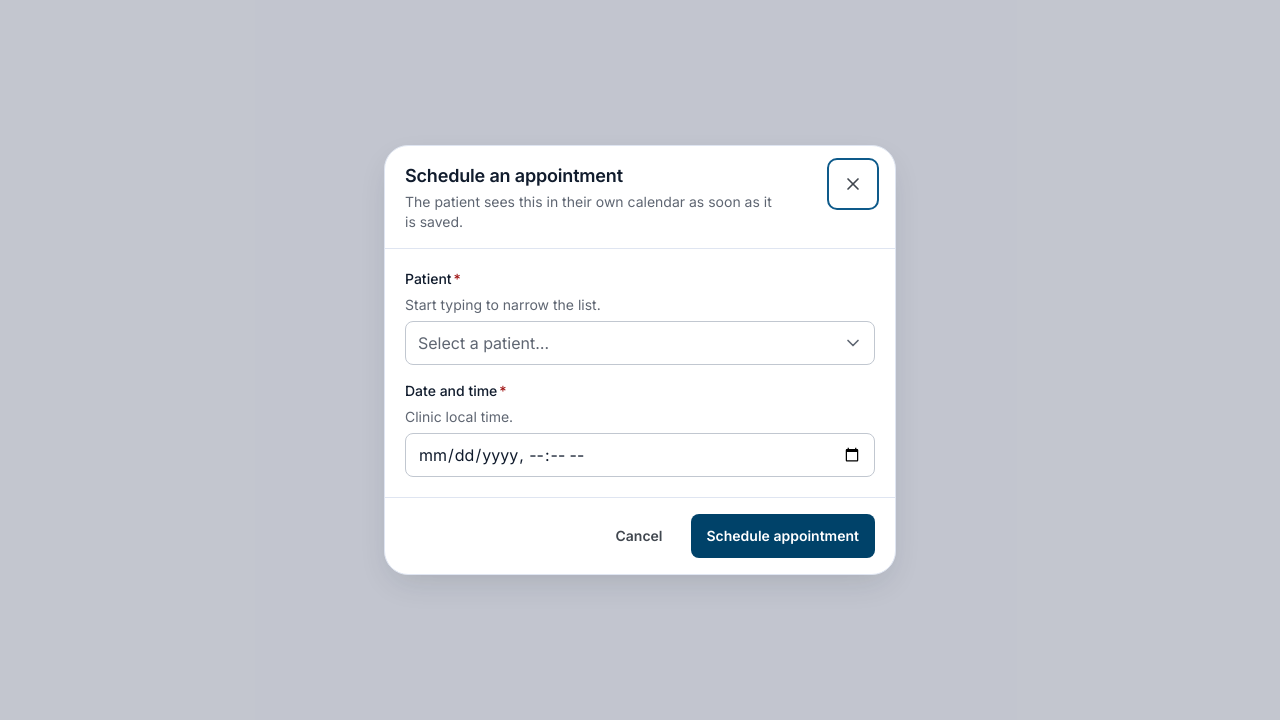
it: schedule appointment validation › asks for a date and time when the slot is empty
Focus the dropdown: (640, 343) [405,321,875,365]
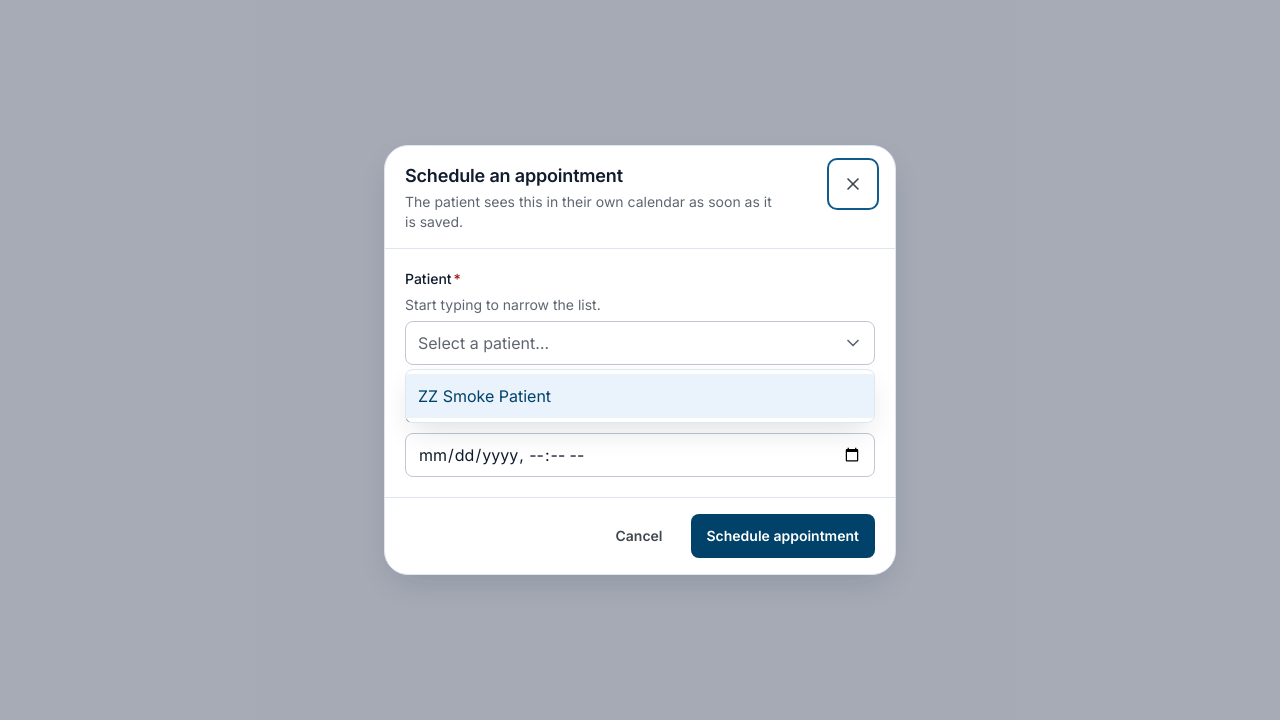
Press the mouse on the option "ZZ Smoke Patient": (485, 396) [406,374,874,418]
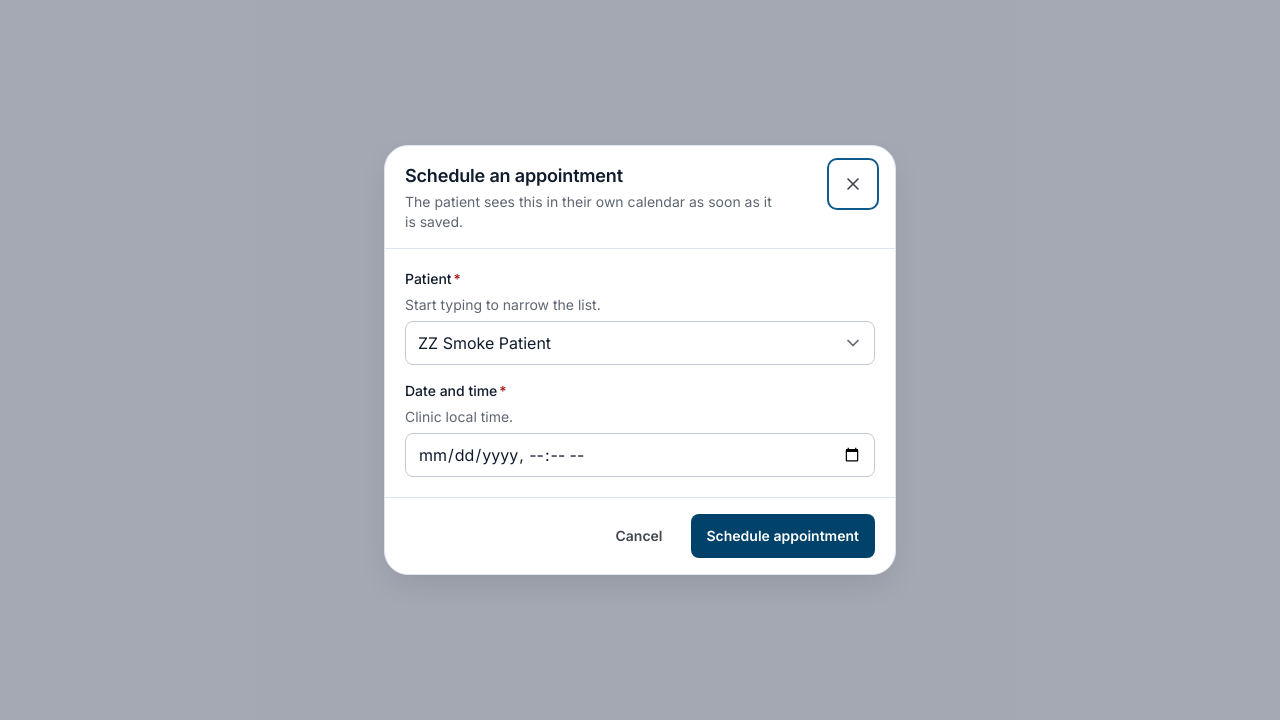
Click the button "Schedule appointment": (783, 536) [690,514,875,558]
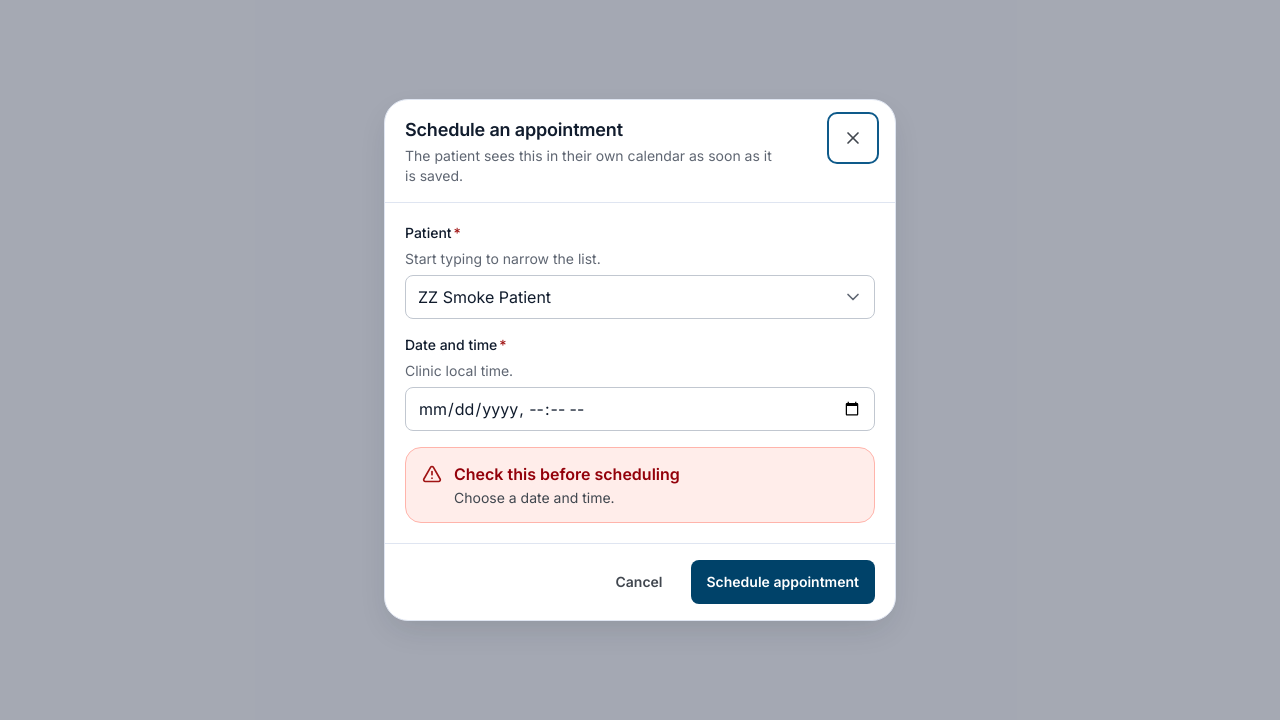
expect the text "Choose a date and time." is shown: met, box [454,489,615,506]
